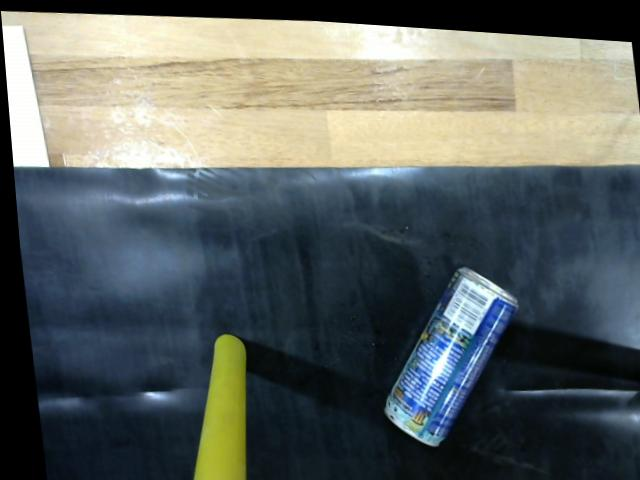can: (355, 240, 533, 462)
